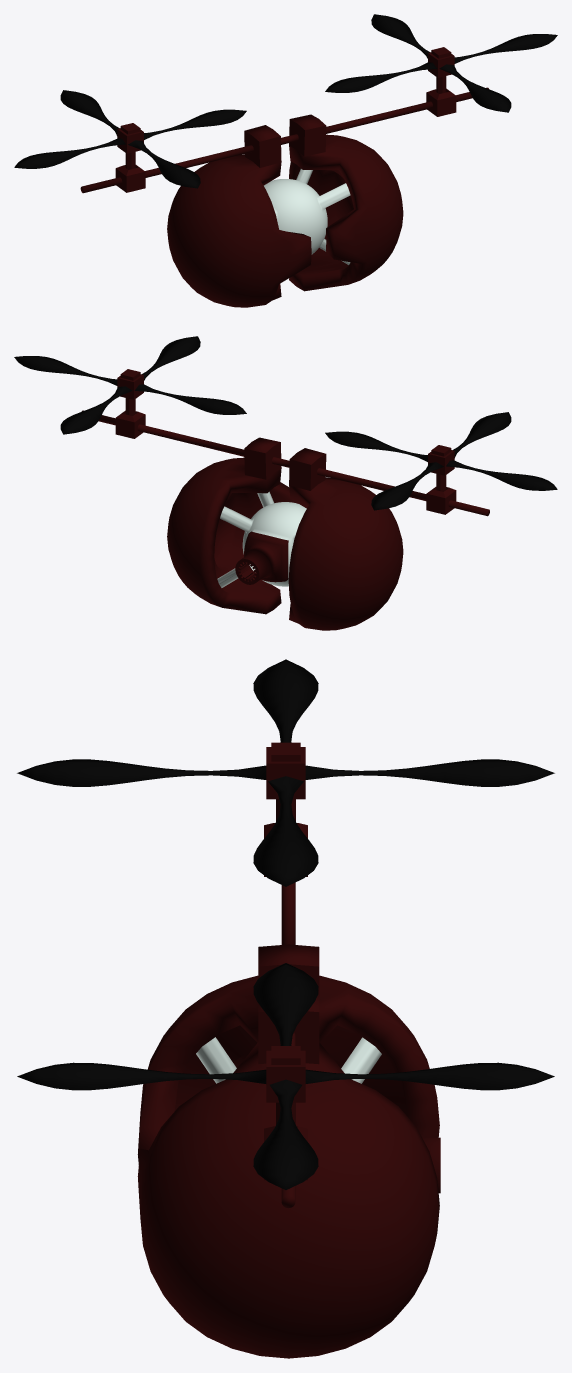
The model's file is GlassCannonAll.fbx.
3 views of the same model, one above another, from view 1: azimuth 30°, elevation 25°; view 2: azimuth 150°, elevation 25°; view 3: azimuth 270°, elevation 25° (orthographic). The views are drawn at different scales.
Visible parts, largest first — view 1: glass_cannon, propeller_right, propeller_left; view 2: glass_cannon, propeller_right, propeller_left; view 3: glass_cannon, propeller_right, propeller_left.
Part boxes in pixels (left/top/right/bottom): glass_cannon: left=80, top=76, right=488, bottom=307; propeller_right: left=14, top=90, right=246, bottom=188; propeller_left: left=325, top=14, right=557, bottom=112; glass_cannon: left=82, top=398, right=489, bottom=630; propeller_right: left=325, top=412, right=557, bottom=510; propeller_left: left=14, top=336, right=246, bottom=434; glass_cannon: left=137, top=799, right=440, bottom=1358; propeller_right: left=17, top=659, right=554, bottom=886; propeller_left: left=17, top=963, right=554, bottom=1189.
Size of the model in its own units: 49571 by 17504 by 21244.
